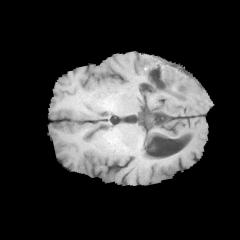glioma: (142, 54, 201, 101)
